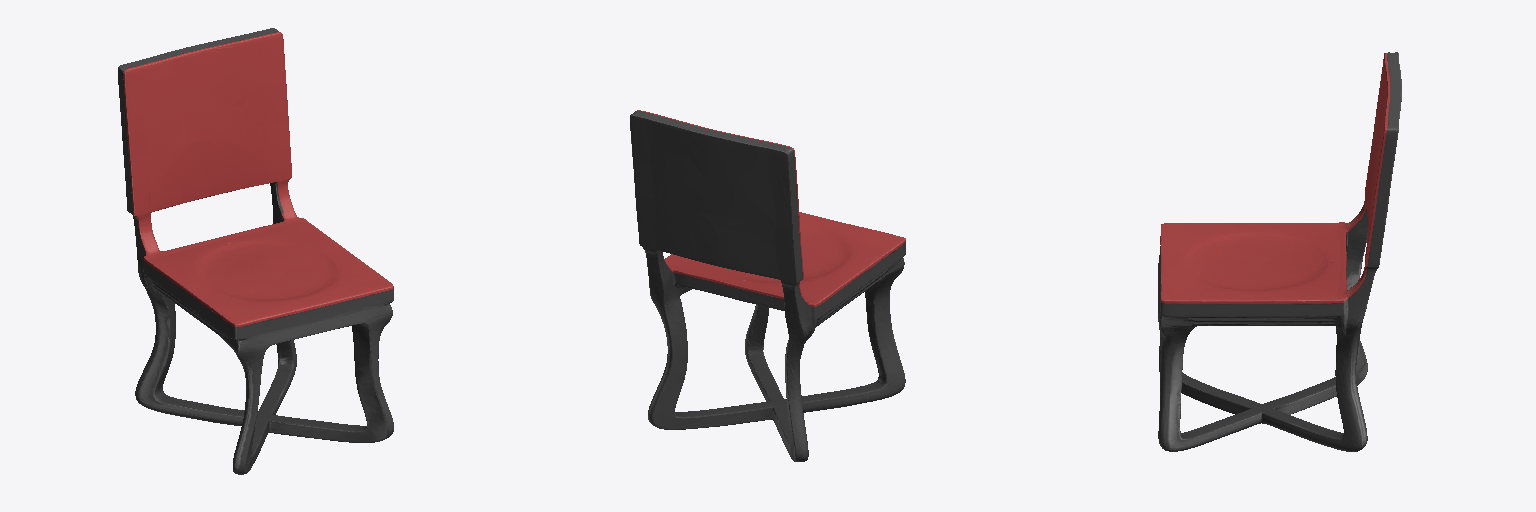
3 renders of one model, left to right at view 1: azimuth 30°, elevation 25°; view 2: azimuth 150°, elevation 25°; view 3: azimuth 270°, elevation 25°, orthographic.
Parts seen in each view (by area): view 1: solid_002, solid_001; view 2: solid_001, solid_002; view 3: solid_001, solid_002.
Boxes of the visible parts, x1=… form: solid_002: x1=123, y1=32, x2=393, y2=326; solid_001: x1=118, y1=28, x2=393, y2=474; solid_001: x1=630, y1=111, x2=905, y2=461; solid_002: x1=637, y1=110, x2=905, y2=306; solid_001: x1=1158, y1=52, x2=1401, y2=451; solid_002: x1=1160, y1=53, x2=1389, y2=303.
Bounding box in the file's own units: 0.765 × 1.5 × 0.9986.
1 materials, 1 textured.